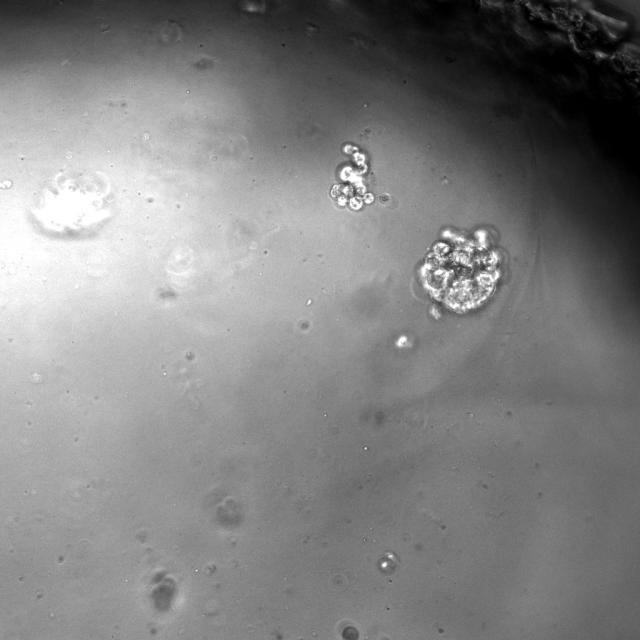organoid: (412, 227, 504, 319), (329, 142, 374, 211), (342, 625, 359, 639)
